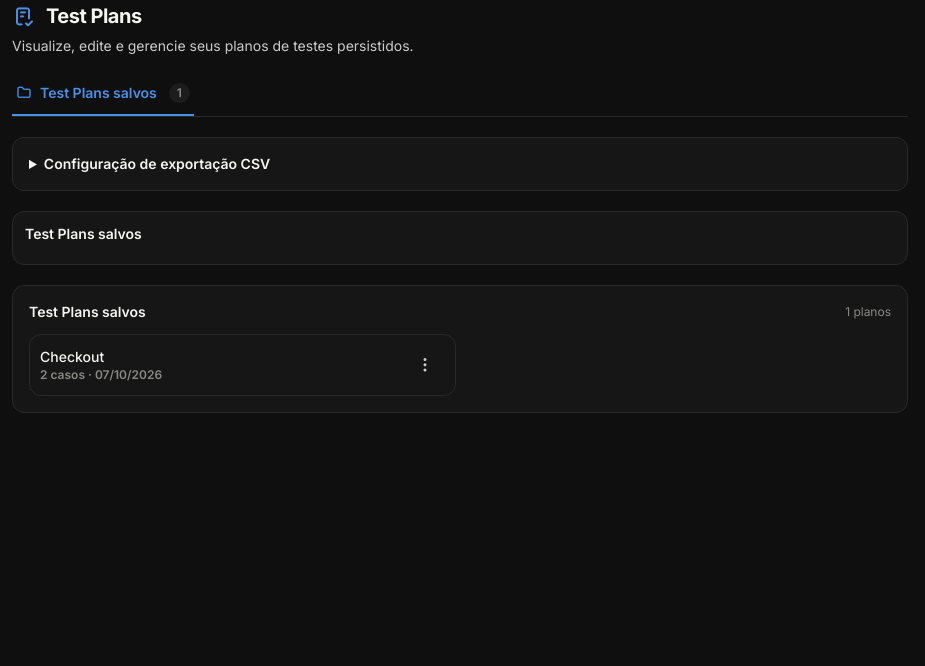
Test: Test plan permissions and per-case history › leaves only reading and history to members who can view test plans
The width and height of the screenshot is (925, 666).
Click the button with aria-label "Abrir Test Plan Checkout". click: (72, 356)
box: x1=40 y1=347 x2=405 y2=383
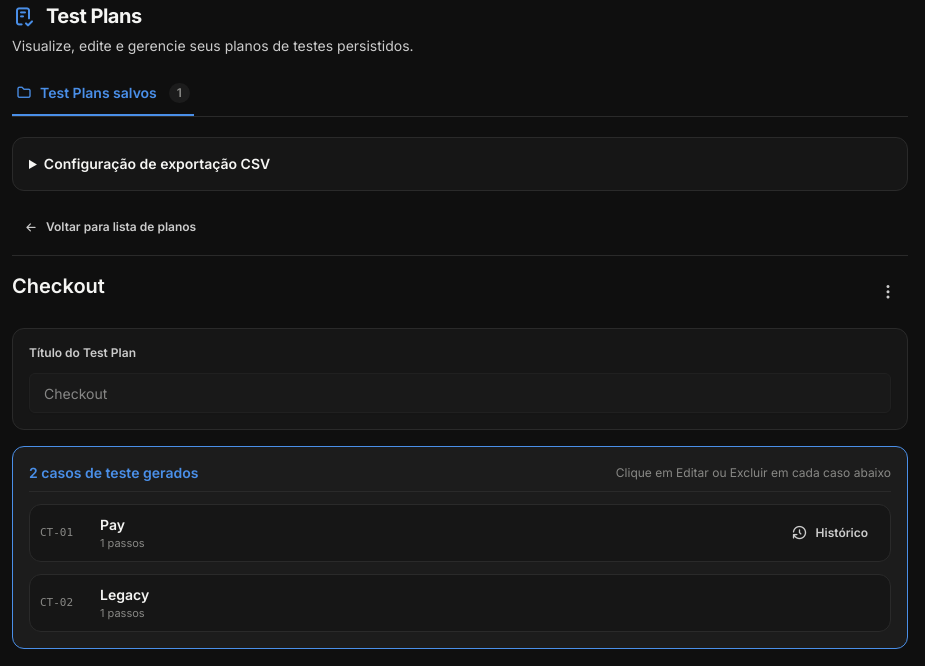
Check: the button "Histórico" is shown, box x1=780 y1=517 x2=880 y2=549
Check: the field named "Título do Test Plan" is disabled, box x1=29 y1=373 x2=891 y2=413
